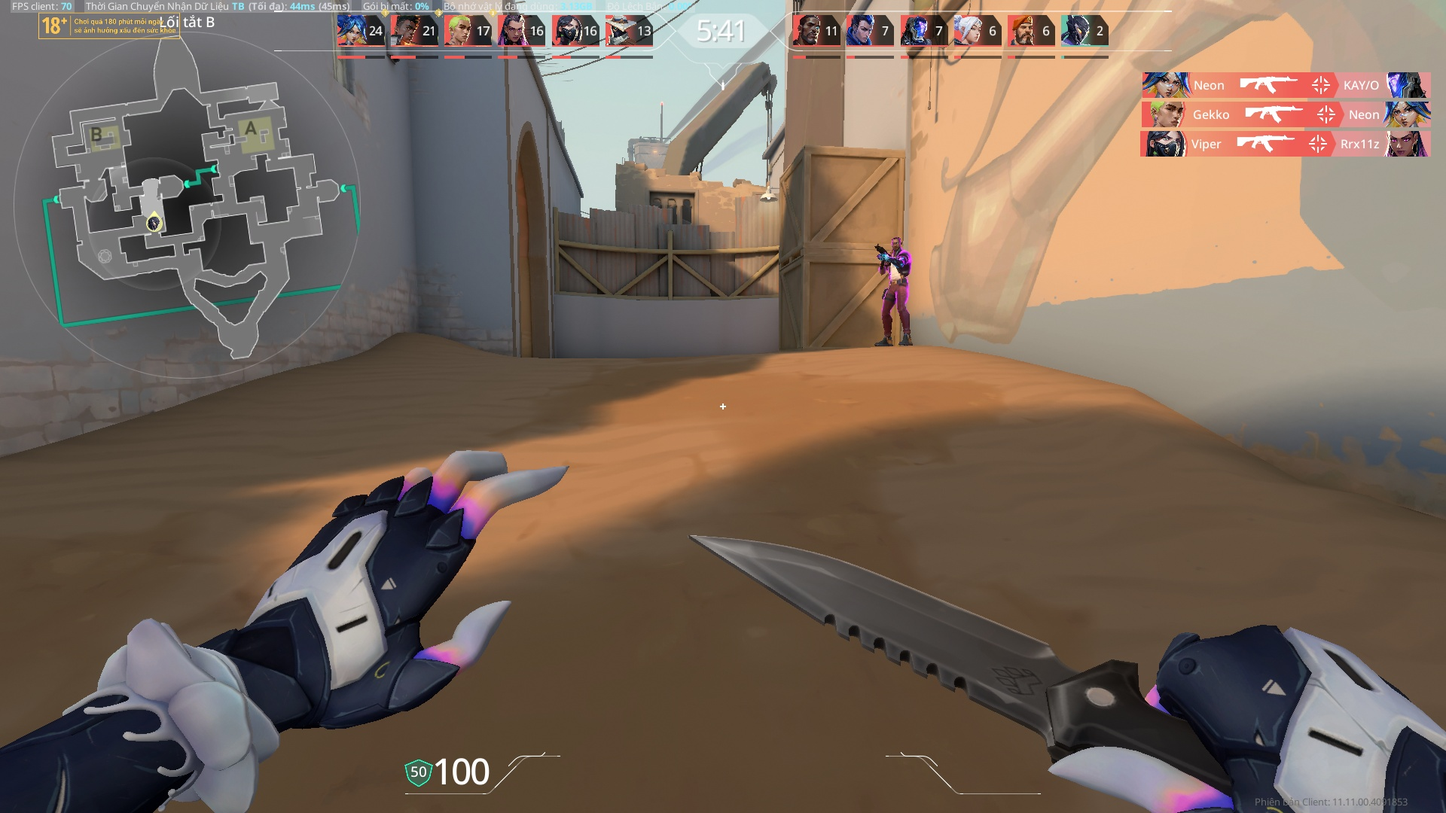body: (883, 248, 914, 279)
head: (887, 233, 902, 251)
